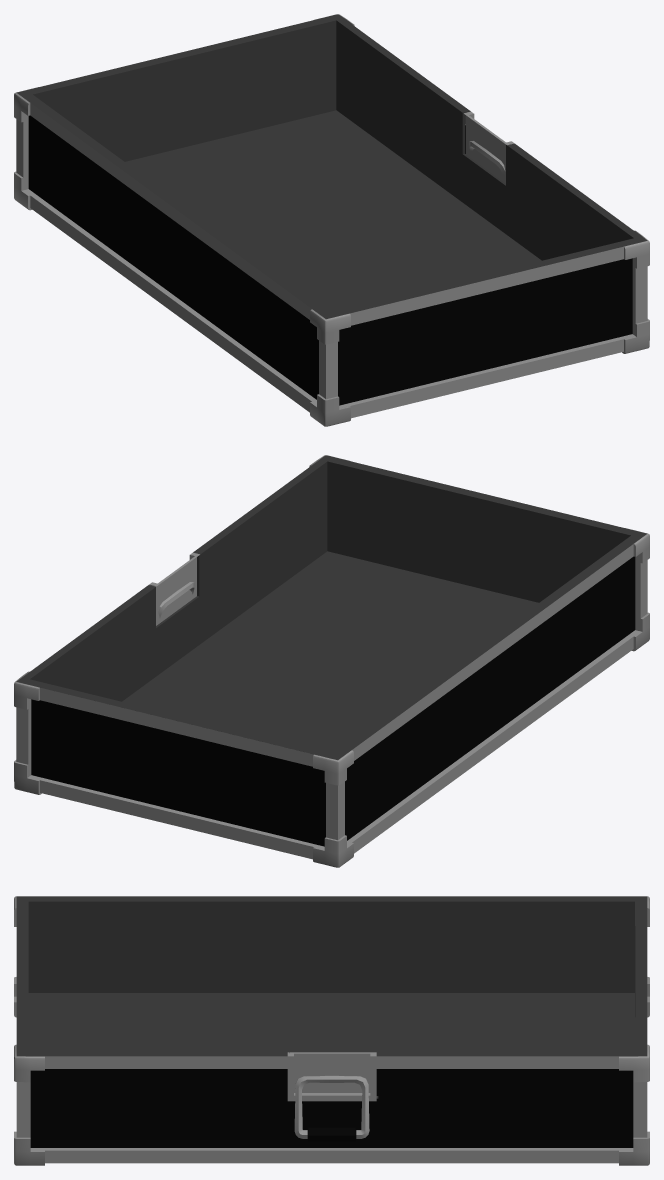
File: StorageCrate_06a.glb
The picture shows the model from 3 angles, top to bottom: view 1: azimuth 30°, elevation 25°; view 2: azimuth 150°, elevation 25°; view 3: azimuth 270°, elevation 25°; orthographic projection.
Visible parts, largest first — view 1: Mesh_StorageCrate_06a; view 2: Mesh_StorageCrate_06a; view 3: Mesh_StorageCrate_06a.
Part boxes in pixels (<box>): Mesh_StorageCrate_06a: <box>14,14,649,426</box>; Mesh_StorageCrate_06a: <box>14,455,649,867</box>; Mesh_StorageCrate_06a: <box>14,896,649,1165</box>.
Bounding box in the file's own units: 0.6196 × 0.1872 × 0.9853.
1 material, 1 textured.
